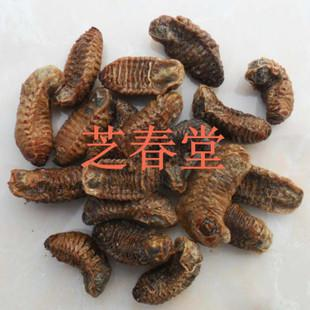grub: (233, 51, 301, 127)
